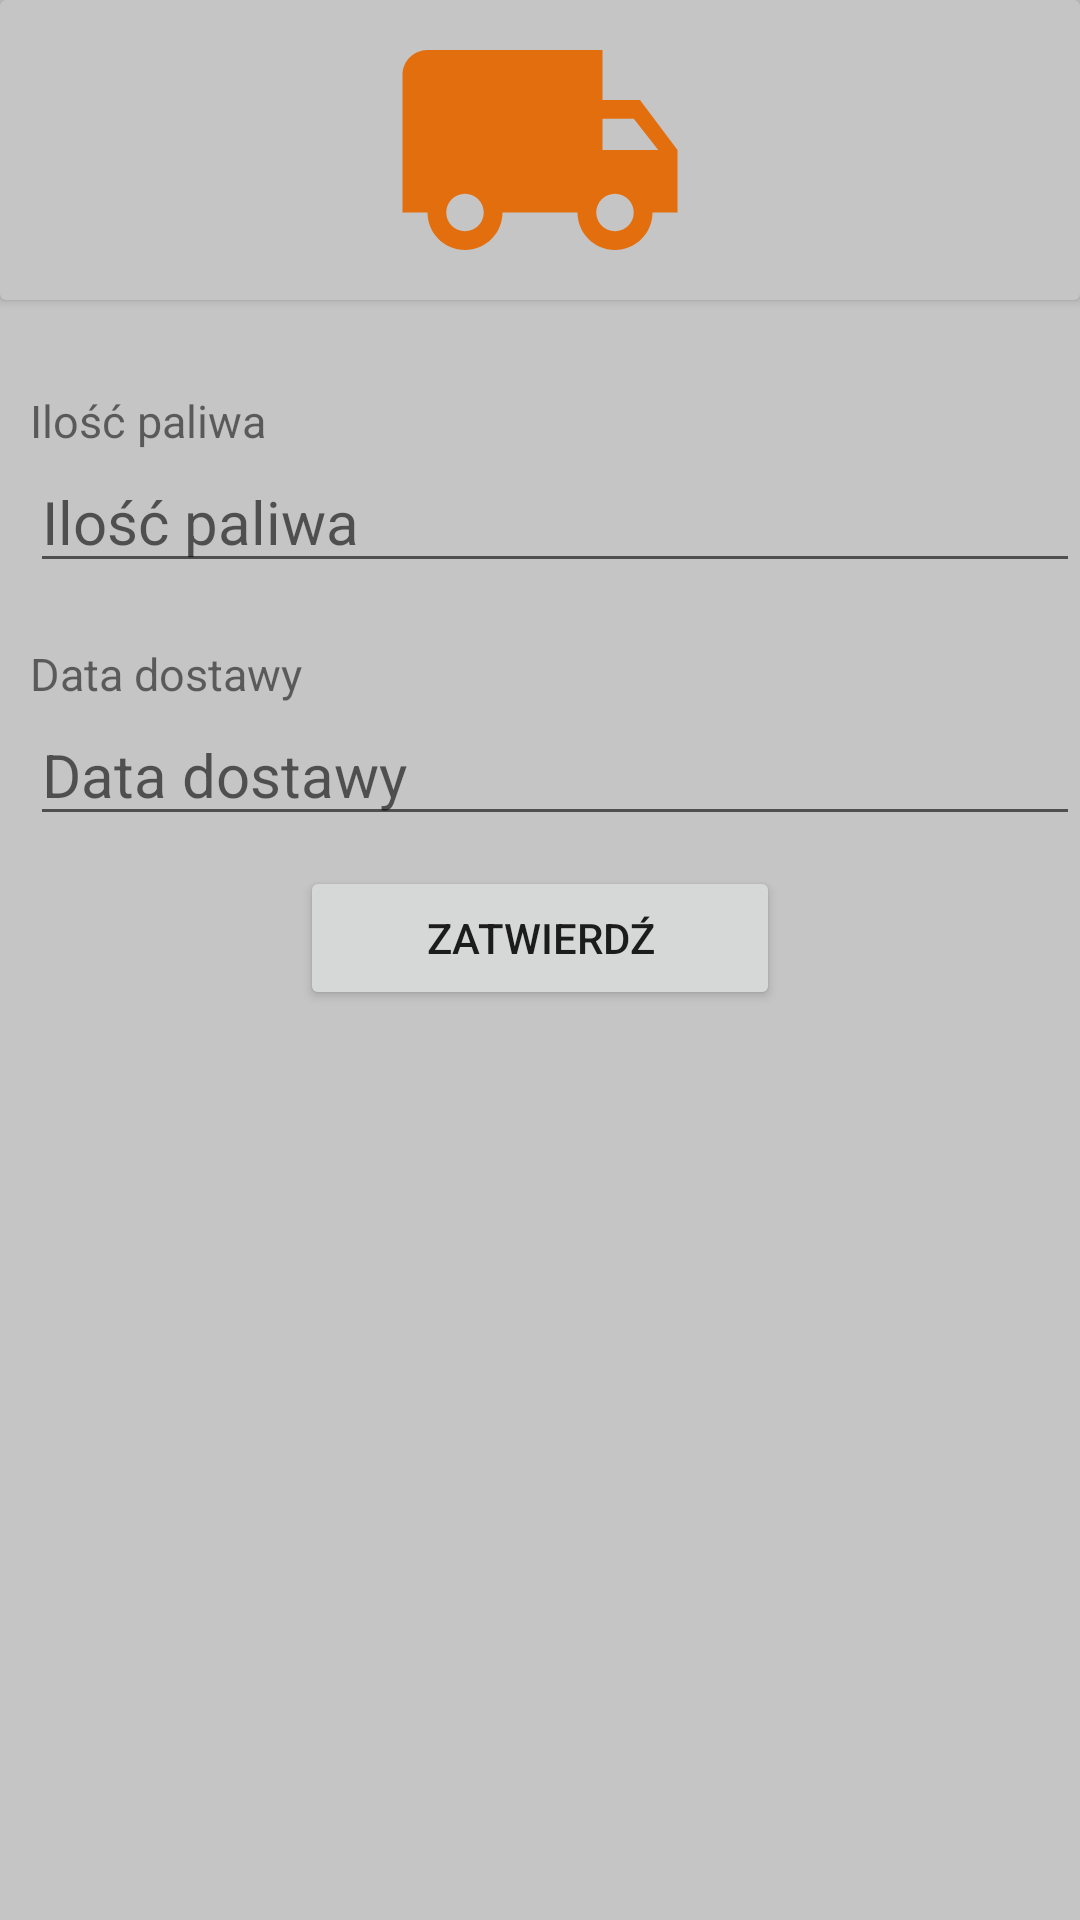

Icons on this 1080 x 1920 Android screen, each with the point to tap as (x=x, y=y):
dostawy: (x=540, y=150)
